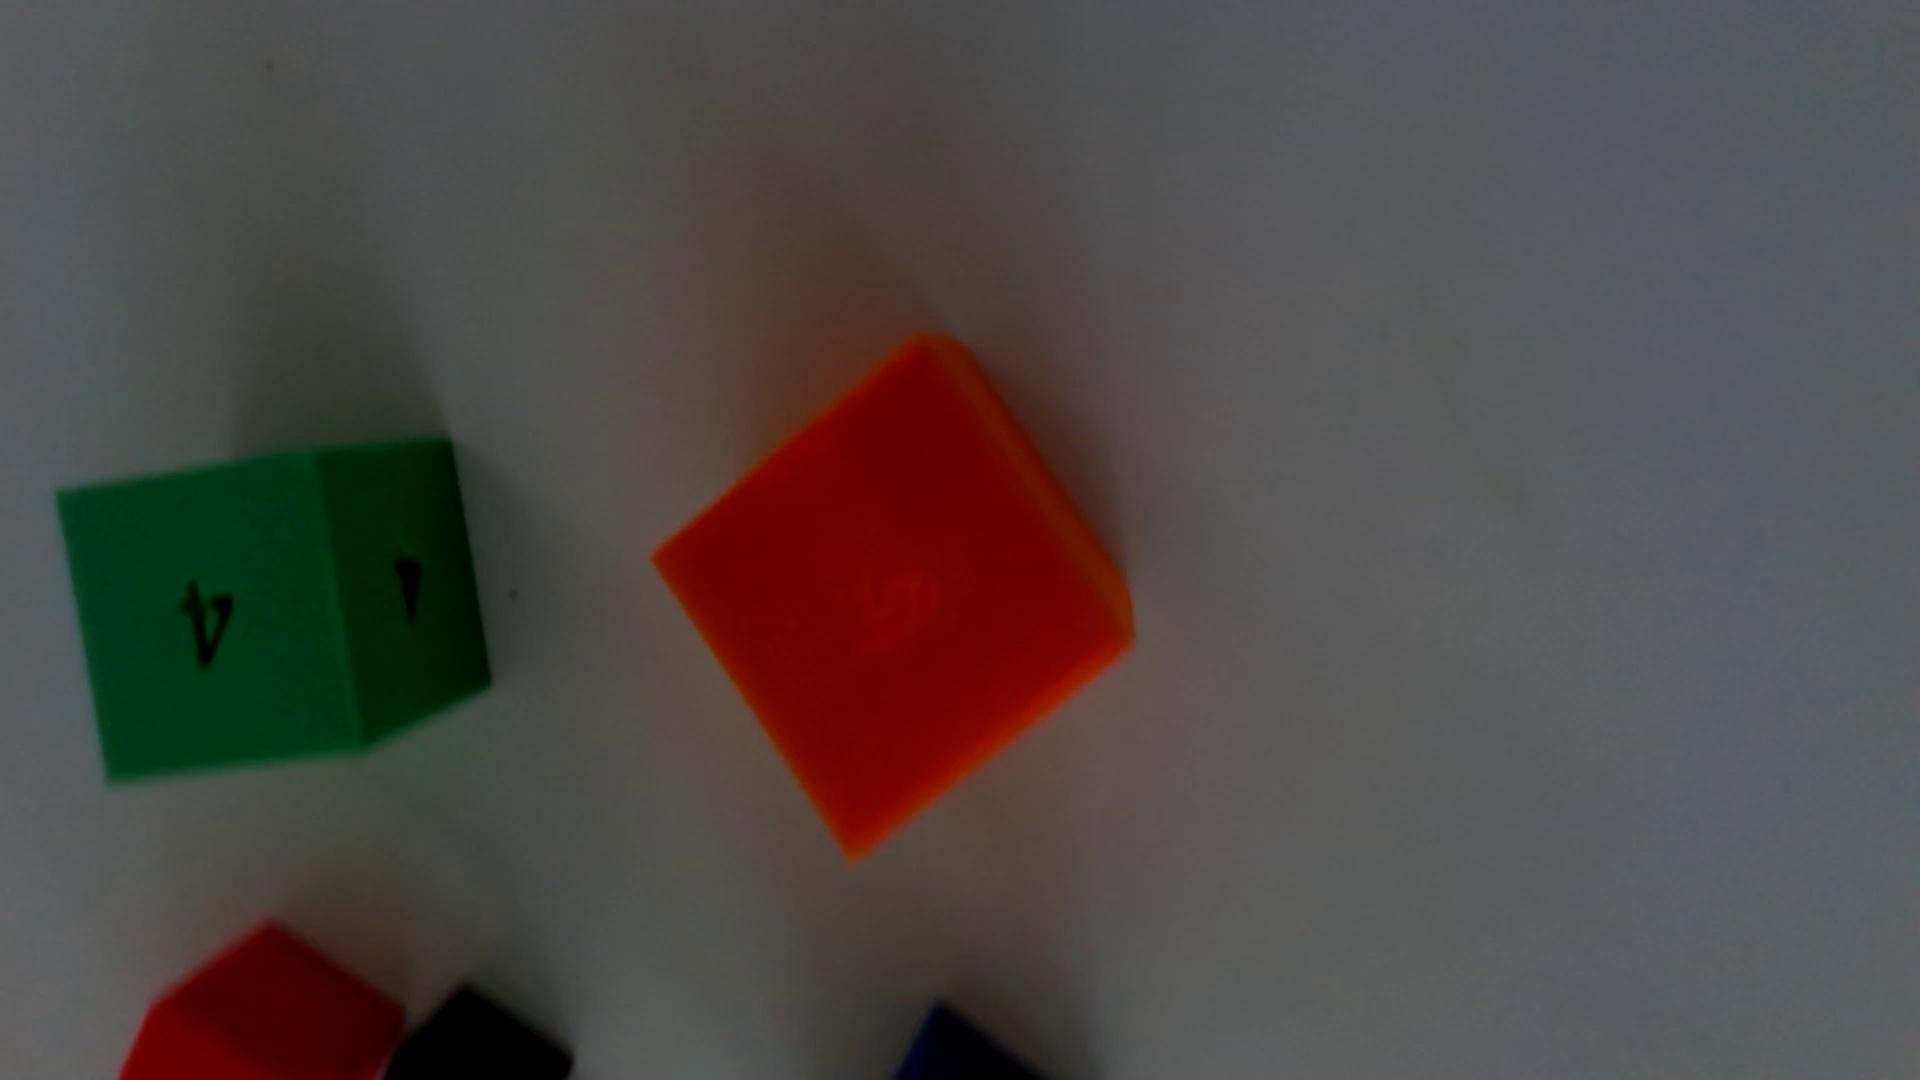black: (384, 986, 574, 1080)
blue: (894, 1007, 1040, 1080)
green: (57, 438, 491, 782)
orange: (655, 336, 1134, 856)
red: (117, 926, 402, 1080)
